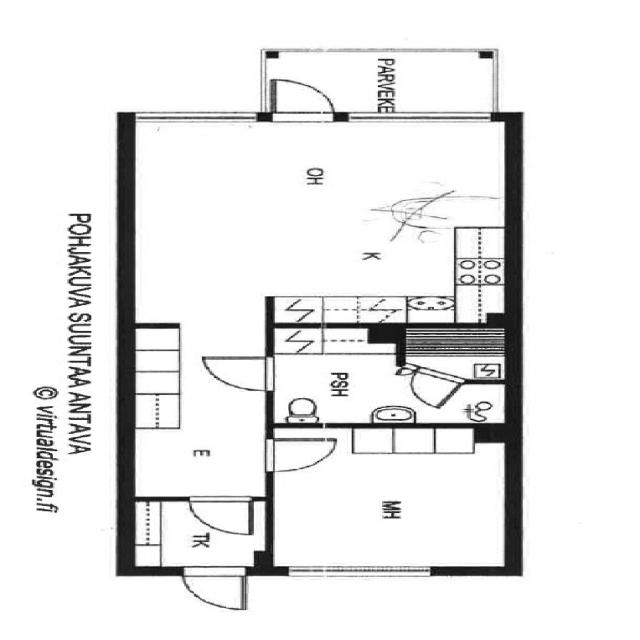door: (195, 350, 296, 398), (262, 76, 345, 126), (174, 565, 255, 615), (255, 432, 342, 477), (184, 494, 262, 540)
window: (276, 560, 448, 586), (336, 108, 498, 132), (123, 106, 269, 132)
zone: (129, 114, 510, 322), (270, 424, 515, 569), (122, 321, 279, 498), (270, 326, 518, 428), (123, 499, 269, 574), (403, 329, 512, 403)
